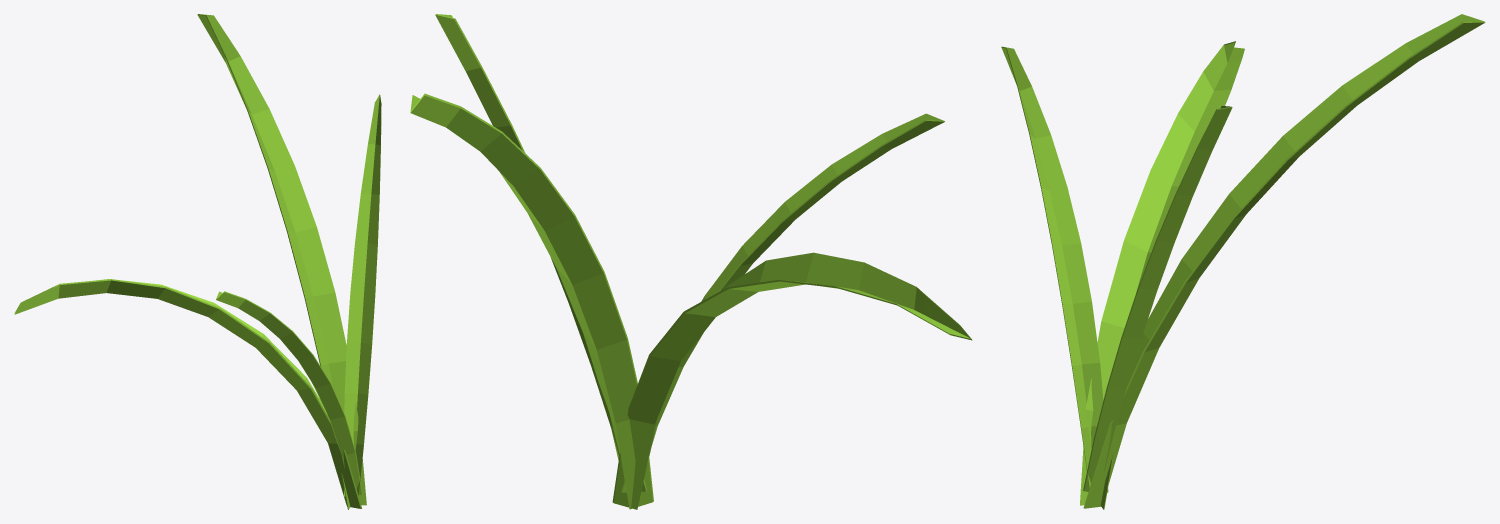
File: Grass_003.FBX
3 views of the same model, side by side, from view 1: azimuth 30°, elevation 25°; view 2: azimuth 150°, elevation 25°; view 3: azimuth 270°, elevation 25° (orthographic). The views are drawn at different scales.
Parts seen in each view (by area): view 1: Grass_003; view 2: Grass_003; view 3: Grass_003.
Boxes of the visible parts, x1=… form: Grass_003: x1=14, y1=14, x2=381, y2=509; Grass_003: x1=410, y1=14, x2=972, y2=509; Grass_003: x1=1001, y1=14, x2=1485, y2=509.
Bounding box in the file's own units: 972 × 984 × 880.
